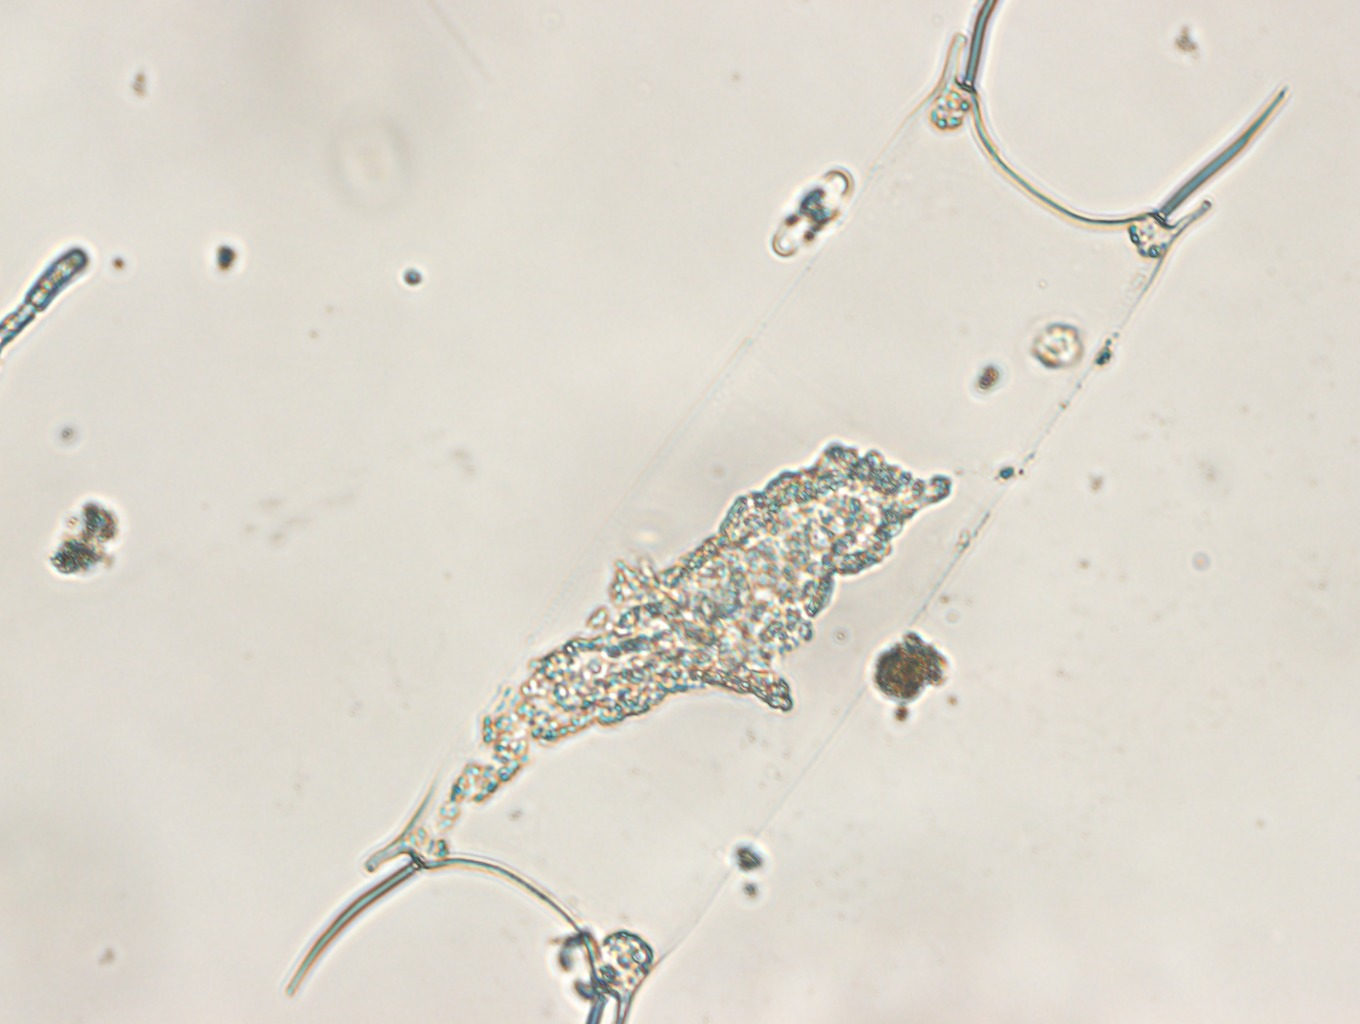biddulphia: (281, 1, 1291, 1023)
